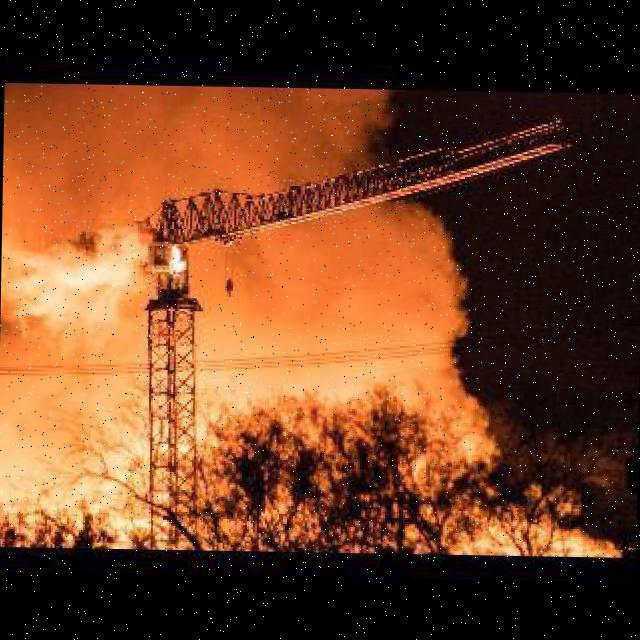fire: (143, 228, 215, 311)
